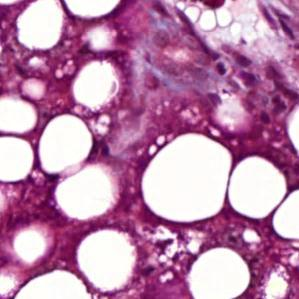steatosis: (35, 117, 101, 175)
